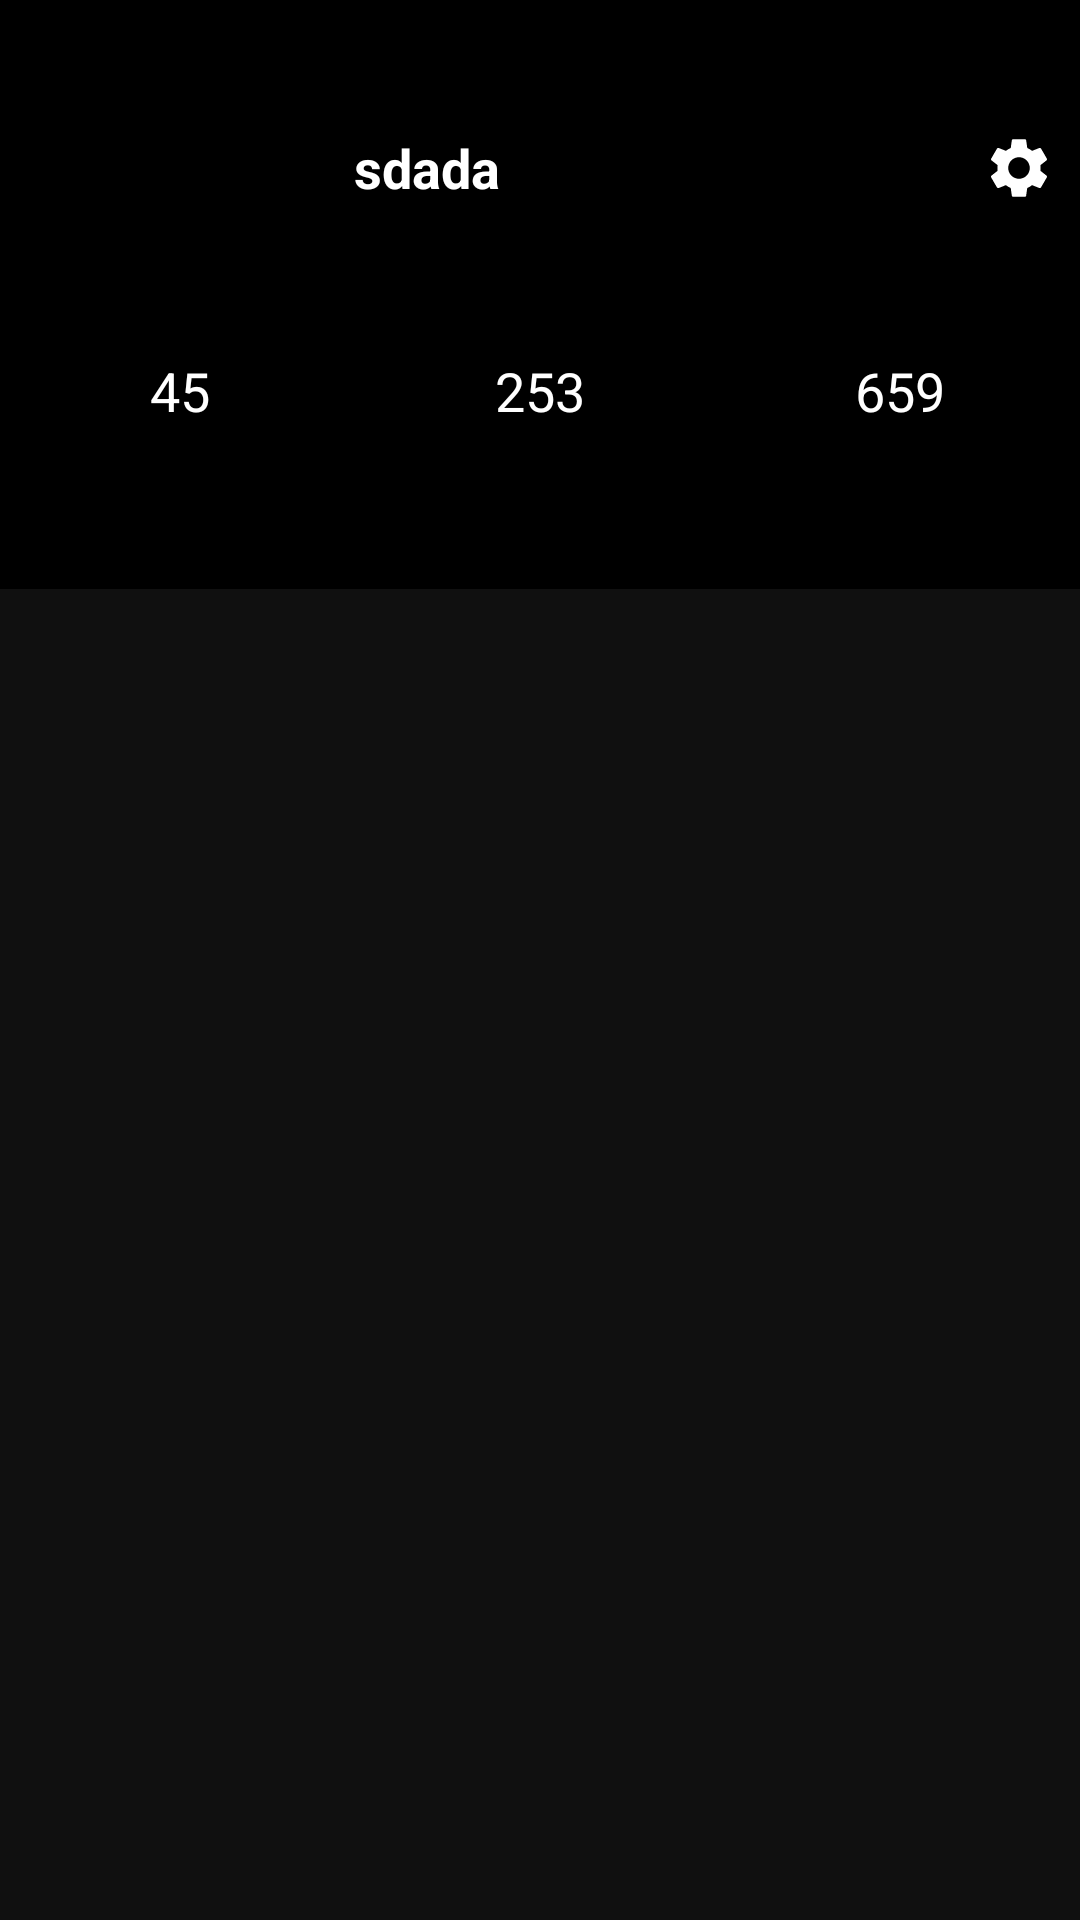

Screen size 1080*1920. Icon name, then its box in pixels as (x1, y1, x2, y2):
setting: (991, 139, 1047, 197)
